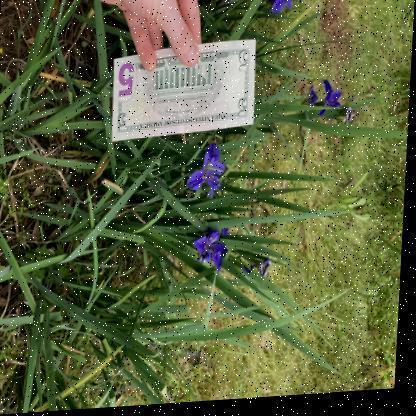five-back: (112, 43, 256, 145)
